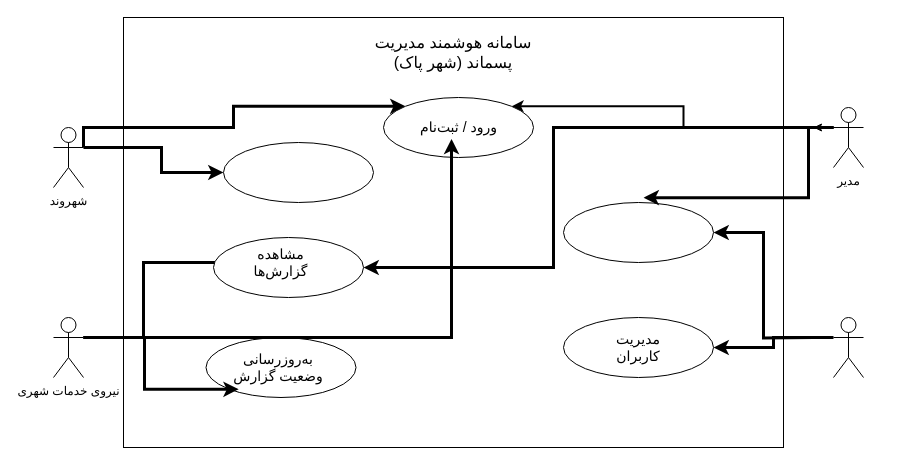
This 915x465 diagram has some shape labels left out. The shapes that lost their labels are listed below. From the top down, each one's centre as x and y in pixels, then its label:
At (x=298, y=172): "ثبت گزارش پسماند".
At (x=638, y=232): "مشاهده داشبورد".
At (x=848, y=347): "مدیر سیستم / ادمین".
